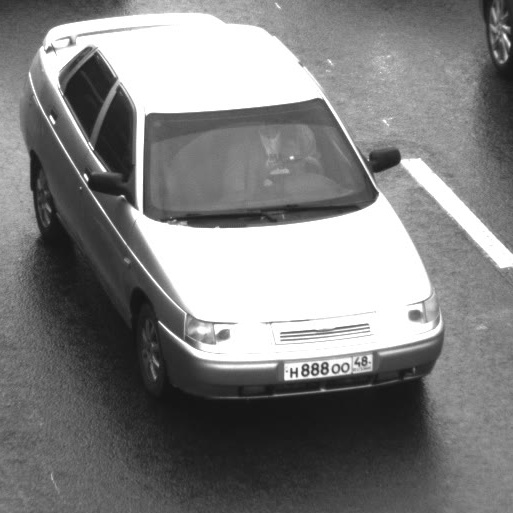plate: (272, 341, 381, 389)
